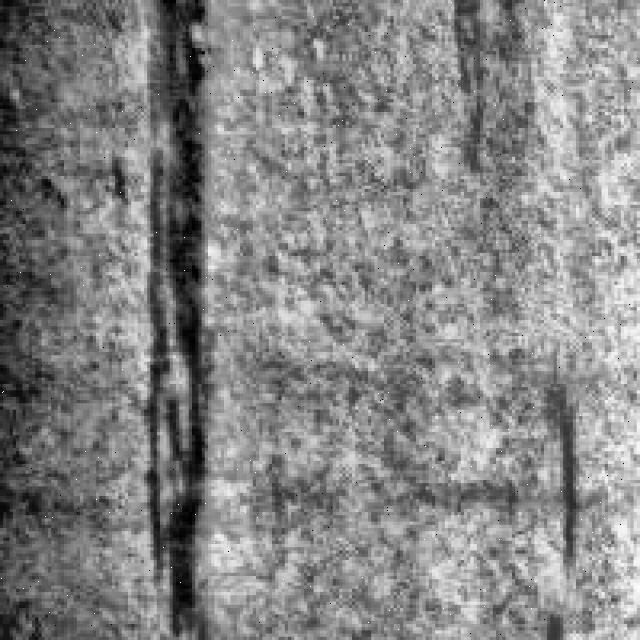Patches: (140, 0, 230, 624), (534, 374, 598, 580)
